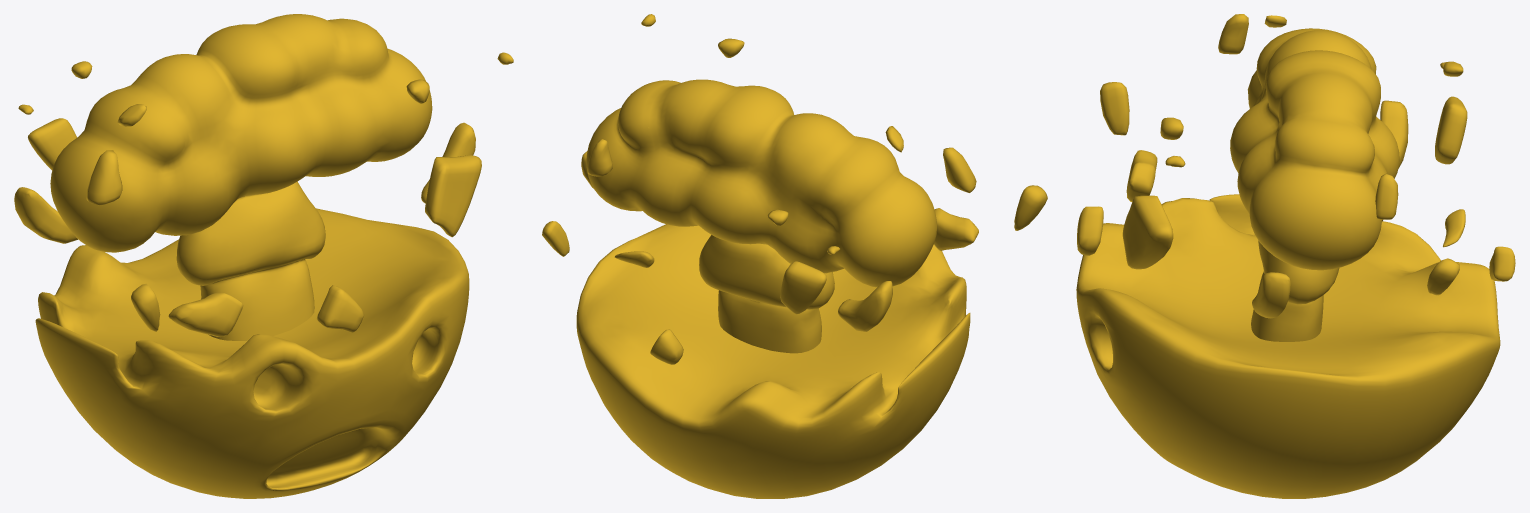
The model's file is explosion FBX.glb.
3 renders of one model, left to right at view 1: azimuth 30°, elevation 25°; view 2: azimuth 150°, elevation 25°; view 3: azimuth 270°, elevation 25°, orthographic. The views are drawn at different scales.
Parts seen in each view (by area): view 1: Explosion2, Explosion3, explosion, explosion1; view 2: Explosion2, Explosion3, explosion1, explosion; view 3: Explosion2, Explosion3, explosion, explosion1.
Boxes of the visible parts, bbox=[...] form: Explosion2: bbox=[35, 208, 469, 498]; Explosion3: bbox=[50, 14, 432, 340]; explosion: bbox=[86, 52, 513, 337]; explosion1: bbox=[14, 61, 92, 243]; Explosion2: bbox=[576, 224, 970, 498]; Explosion3: bbox=[586, 79, 936, 353]; explosion1: bbox=[542, 127, 892, 364]; explosion: bbox=[581, 14, 1047, 250]; Explosion2: bbox=[1076, 194, 1500, 498]; Explosion3: bbox=[1230, 28, 1399, 341]; explosion: bbox=[1077, 14, 1290, 318]; explosion1: bbox=[1375, 61, 1515, 295].
Size of the model in its own units: 0.5405 by 0.5312 by 0.4923.
